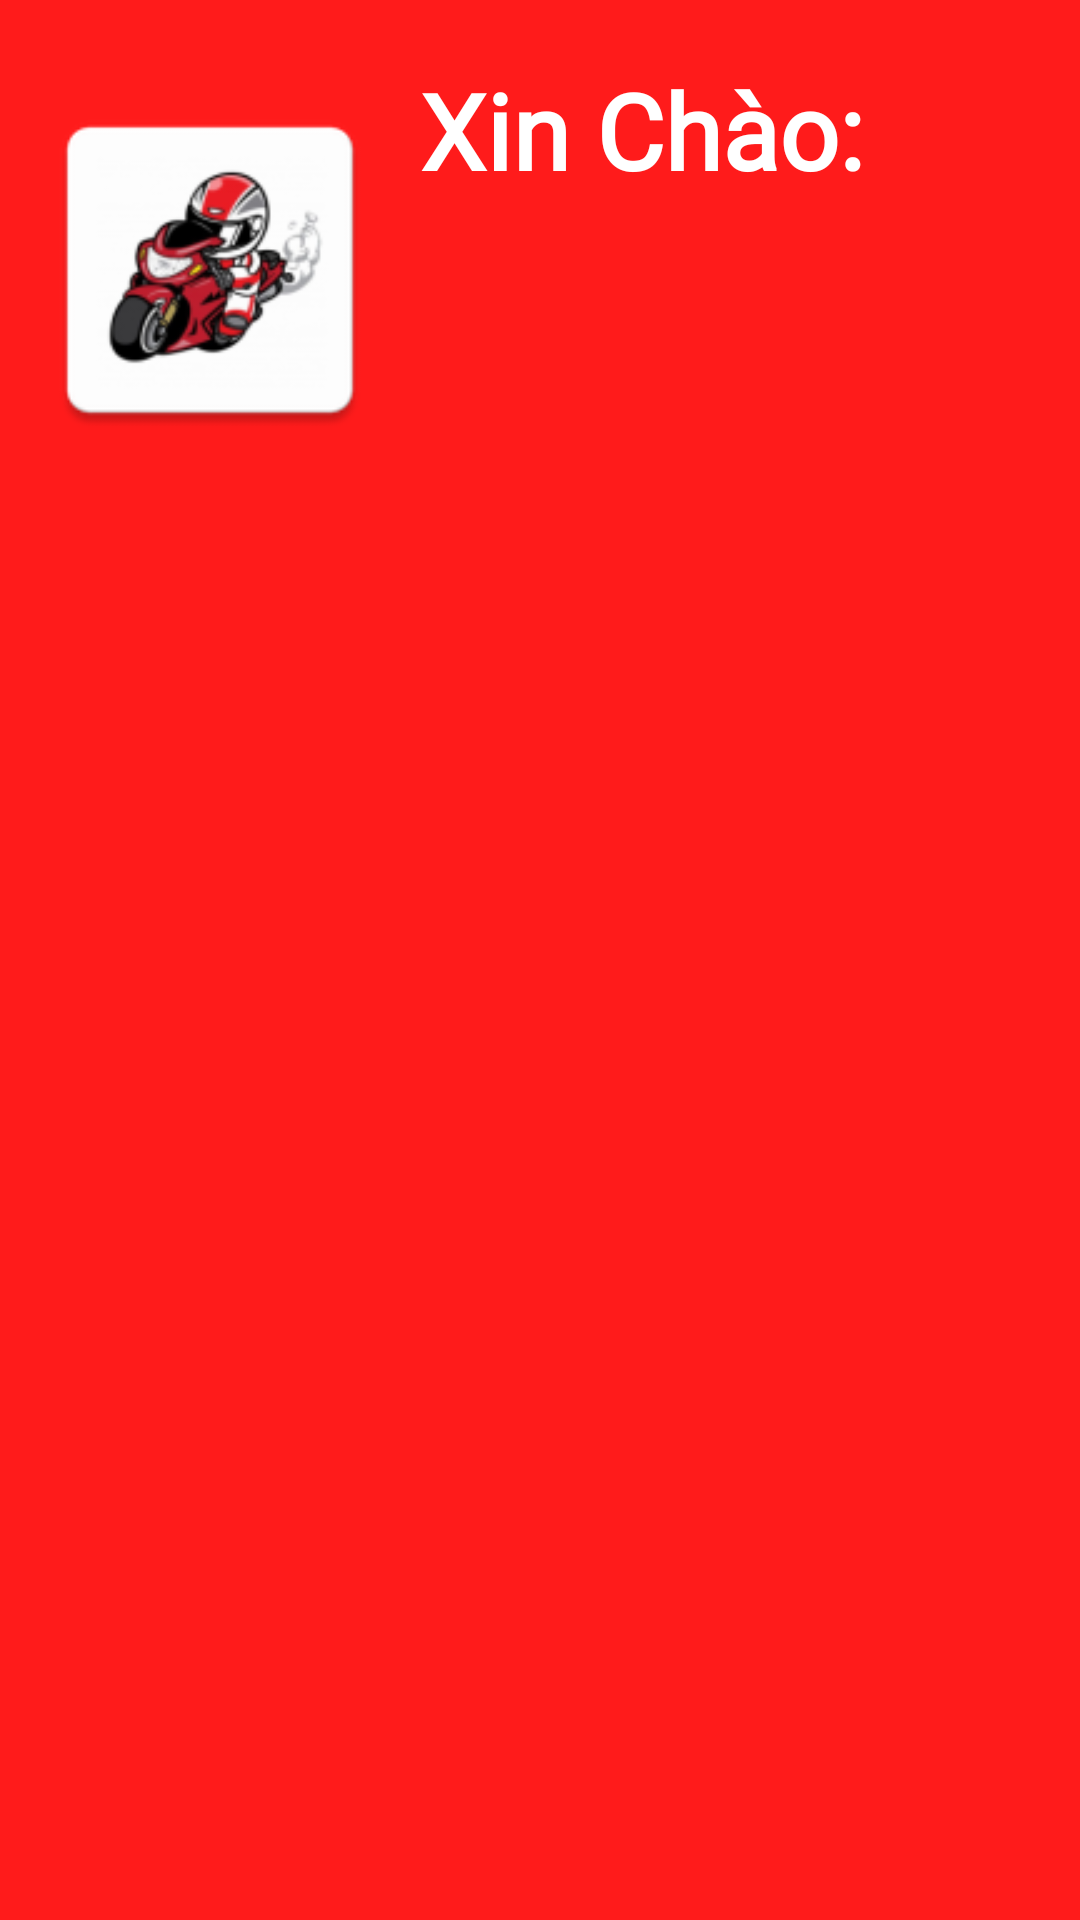

Screen size 1080x1920. Icon name, then its center in pixels as point (x, y):
moto: point (210, 274)
